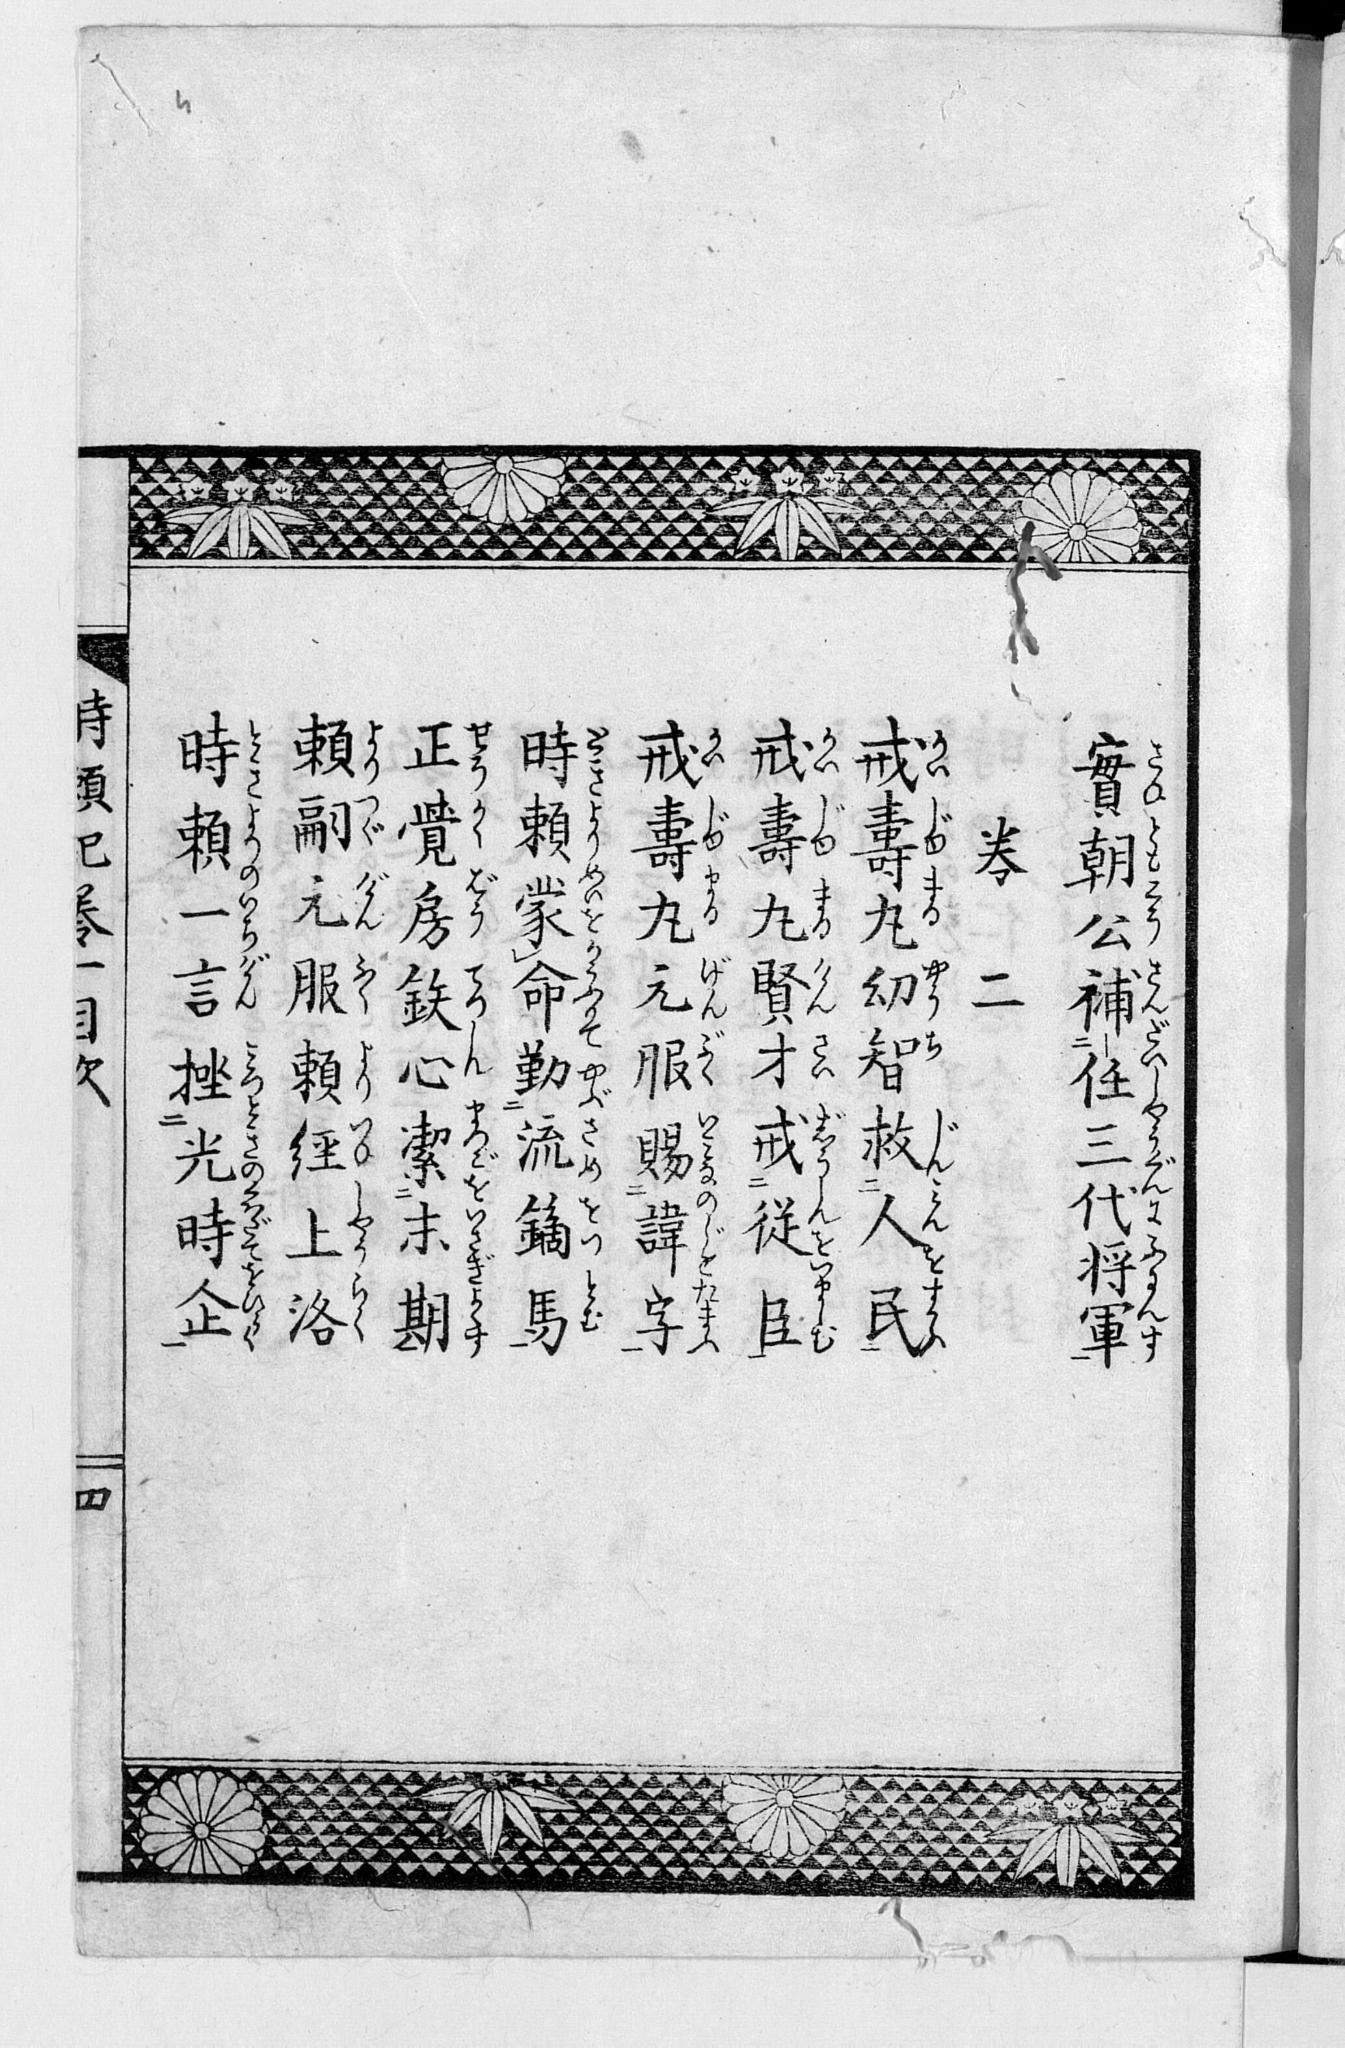MainZone-Character: (856, 1247, 961, 1362), (743, 1257, 848, 1362), (395, 1098, 500, 1203), (506, 942, 608, 1049), (507, 1265, 612, 1362), (171, 1265, 278, 1359), (1057, 1020, 1178, 1103), (156, 1106, 273, 1191), (1070, 1103, 1181, 1193), (1067, 1238, 1180, 1323), (850, 1097, 962, 1178), (393, 869, 501, 953), (740, 1175, 850, 1254), (629, 863, 728, 950), (749, 791, 851, 875), (854, 795, 958, 878), (630, 1188, 727, 1277), (1070, 728, 1168, 815), (501, 1040, 615, 1113), (174, 807, 273, 891), (174, 717, 275, 800), (513, 867, 611, 951), (392, 1281, 497, 1359), (513, 717, 612, 798), (856, 875, 958, 953), (857, 710, 955, 791), (399, 1206, 500, 1284), (285, 1187, 375, 1274), (635, 1277, 728, 1361), (282, 708, 390, 780), (1070, 1298, 1174, 1373), (629, 713, 733, 788), (632, 1025, 733, 1101), (503, 1113, 609, 1185), (165, 950, 272, 1022), (282, 1274, 377, 1355), (748, 1095, 845, 1173), (281, 1038, 386, 1110), (395, 791, 495, 866), (627, 1106, 721, 1187), (1066, 881, 1169, 953), (1070, 956, 1175, 1026), (630, 791, 733, 863), (296, 866, 392, 942), (626, 953, 731, 1022), (287, 791, 390, 860), (171, 1193, 269, 1265), (859, 1178, 962, 1245), (161, 1032, 269, 1097), (512, 1190, 608, 1262), (288, 950, 378, 1026), (847, 1025, 952, 1089), (390, 957, 491, 1023), (393, 1026, 494, 1091), (1073, 819, 1166, 888), (749, 879, 839, 948), (513, 797, 609, 861), (746, 717, 841, 782), (748, 956, 842, 1020), (402, 722, 494, 788), (749, 1026, 842, 1089), (171, 894, 275, 950), (1060, 1187, 1174, 1235), (285, 1121, 378, 1178), (863, 962, 950, 1020)
MainZone-Ruby: (916, 1248, 953, 1353), (462, 1100, 497, 1202), (1136, 1104, 1175, 1194), (805, 1262, 844, 1352), (800, 1176, 841, 1253), (575, 942, 605, 1041), (808, 1095, 847, 1170), (691, 1193, 725, 1277), (923, 1106, 961, 1176), (458, 1211, 495, 1281), (237, 1265, 267, 1352), (808, 795, 844, 864), (354, 869, 392, 933), (686, 1280, 719, 1352), (575, 866, 608, 938), (233, 953, 270, 1016), (697, 953, 731, 1020), (1139, 1238, 1168, 1319), (579, 725, 612, 792), (345, 1187, 372, 1269), (348, 954, 380, 1025), (573, 1271, 609, 1332), (1138, 732, 1166, 809), (572, 1191, 606, 1254), (919, 795, 952, 860), (237, 1194, 270, 1259), (465, 867, 497, 935), (573, 1056, 612, 1110), (694, 1026, 727, 1088), (240, 720, 266, 800), (350, 1037, 380, 1104), (698, 792, 730, 855), (692, 1110, 719, 1184), (240, 1106, 264, 1187), (462, 723, 492, 788), (347, 1277, 375, 1344), (1141, 1022, 1168, 1092), (353, 792, 386, 848), (462, 1287, 489, 1355), (573, 1119, 603, 1179), (458, 1032, 492, 1083), (581, 798, 609, 860), (459, 960, 488, 1022), (922, 720, 952, 776), (806, 957, 836, 1013), (236, 1038, 266, 1094), (1141, 885, 1168, 947), (239, 804, 260, 882), (808, 881, 835, 939), (919, 870, 944, 930), (1141, 960, 1168, 1016), (697, 867, 722, 926), (808, 1031, 838, 1080), (362, 719, 386, 780), (922, 1181, 949, 1235), (812, 722, 838, 777), (922, 960, 947, 1011), (350, 1119, 374, 1169), (465, 795, 488, 848), (700, 723, 725, 767), (1144, 821, 1165, 873), (239, 897, 258, 945), (1142, 1325, 1162, 1365), (925, 1028, 943, 1064), (1147, 1200, 1163, 1227)
